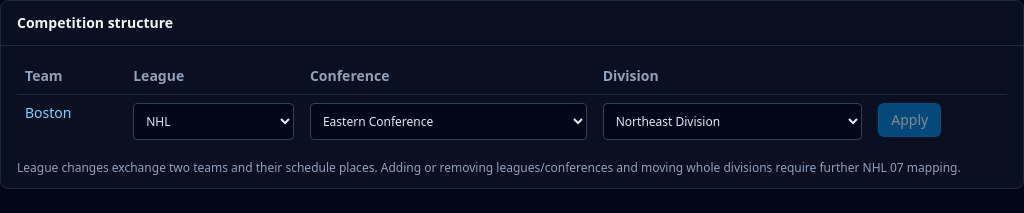
it: requires a destination team for a league swap and preserves a refused draft
The width and height of the screenshot is (1024, 213).
Select "National" in the dropdown named "Boston league": x=214, y=122 [133, 103, 294, 140]
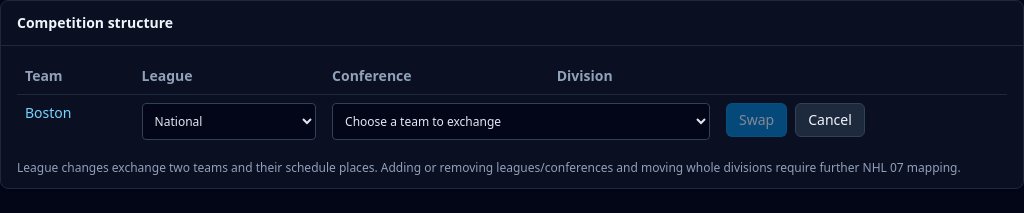
expect the button "Swap" is disabled: met, box [726, 103, 787, 137]
Select "Sweden" in the dropdown named "Boston swap with": x=521, y=122 [332, 103, 710, 140]
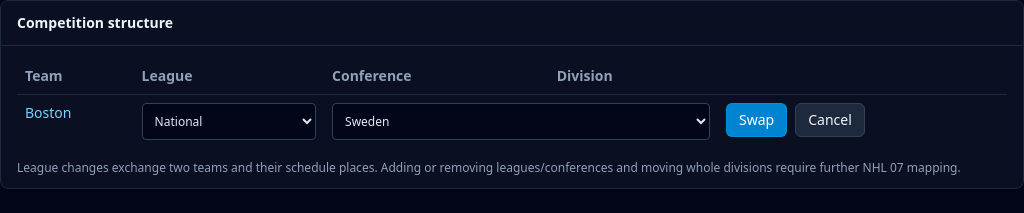
Click the button "Swap": x=757, y=120 [726, 103, 787, 137]
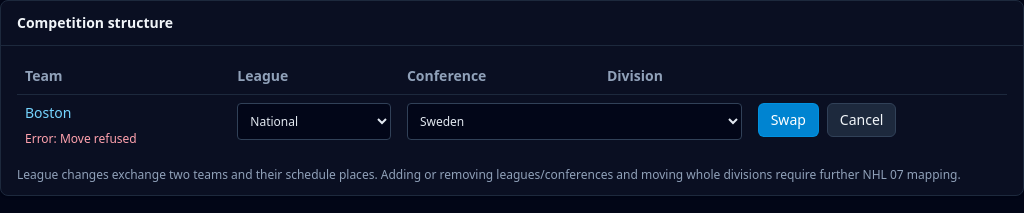
expect the message shows "Move refused": met, box [25, 130, 137, 147]
